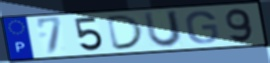5: (73, 16, 104, 52)
7: (34, 15, 64, 57)
9: (224, 7, 254, 43)
D: (106, 14, 147, 52)
G: (184, 9, 221, 45)
U: (142, 9, 184, 49)
